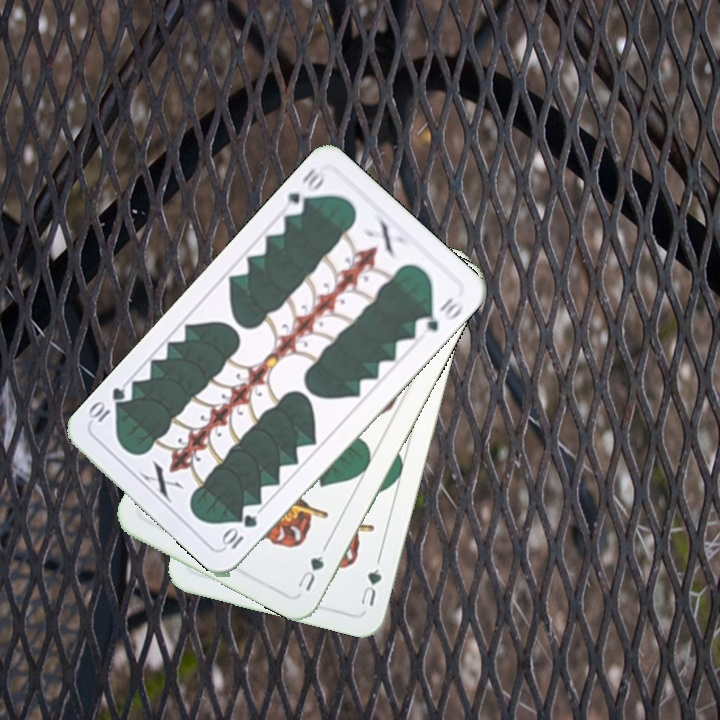G10: (279, 164, 329, 219), (218, 510, 260, 552)
GU: (293, 551, 327, 594), (356, 564, 384, 609)
